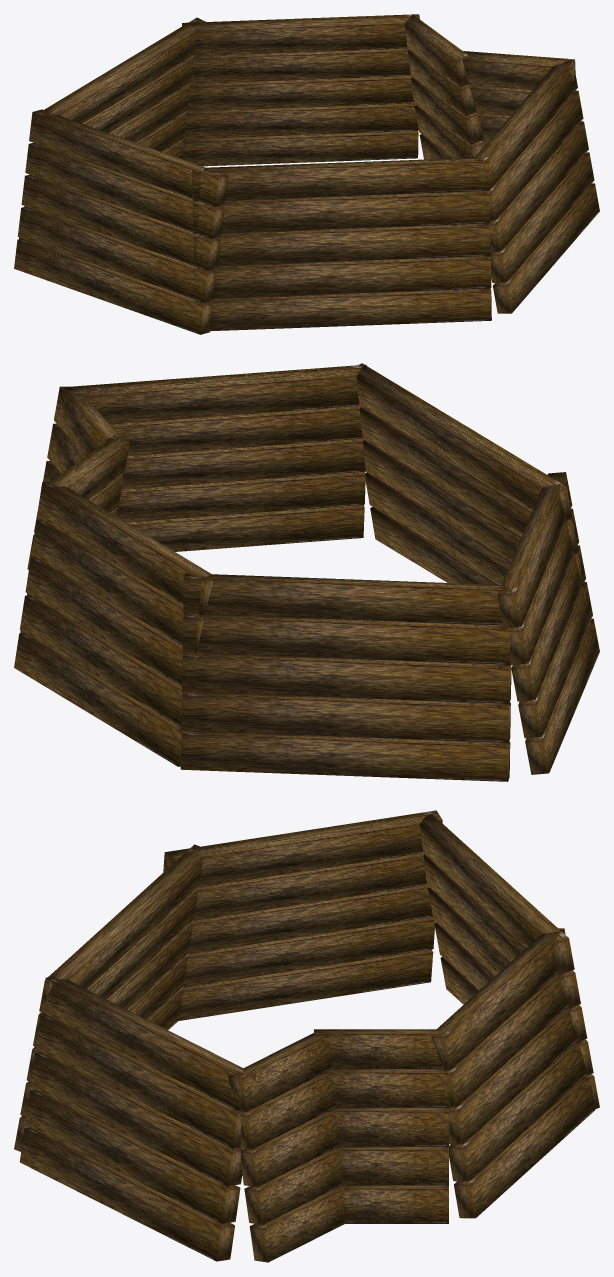
Rendered from WoodenBarrierPartTest04.obj.
3 renders of one model, top to bottom at view 1: azimuth 30°, elevation 25°; view 2: azimuth 150°, elevation 25°; view 3: azimuth 270°, elevation 25°, orthographic. The views are drawn at different scales.
Parts seen in each view (by area): view 1: Box002; view 2: Box002; view 3: Box002.
Part boxes in pixels (x1,y1,x2,y2): Box002: (14,14,599,334); Box002: (14,363,599,781); Box002: (14,810,599,1262).
Bounding box in the file's own units: 223 × 63.84 × 190.
